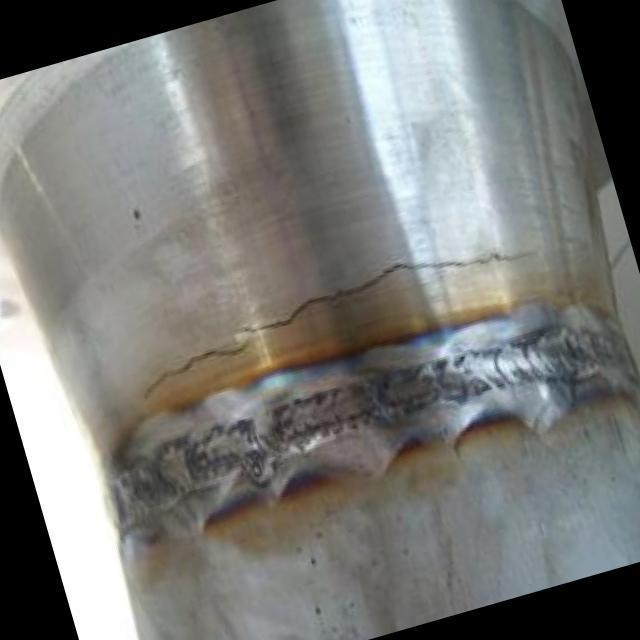defect: (131, 245, 546, 409)
